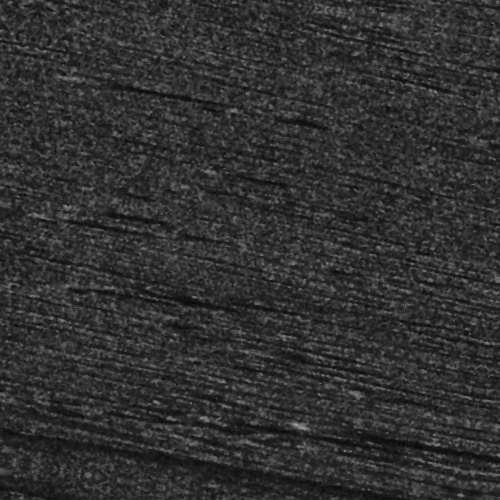object: (292, 407, 375, 416), (52, 105, 63, 114)
shadow: (333, 407, 500, 416), (57, 105, 153, 114)
